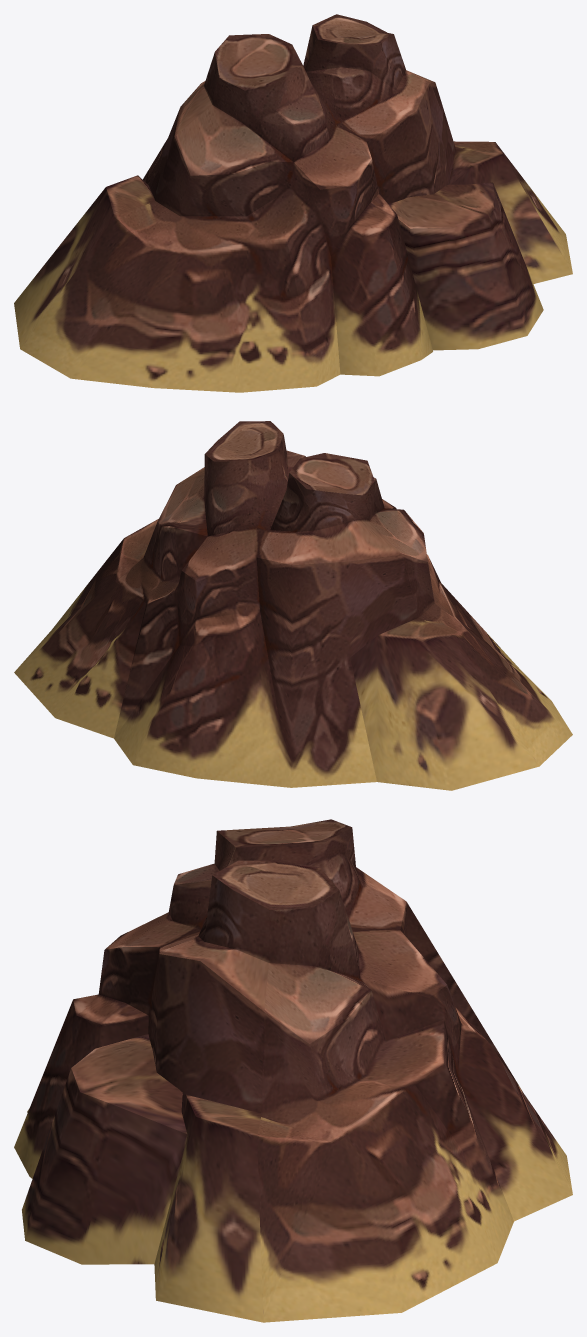
File: SV_MOT_shamo_rock_5.FBX
3 renders of one model, top to bottom at view 1: azimuth 30°, elevation 25°; view 2: azimuth 150°, elevation 25°; view 3: azimuth 270°, elevation 25°, orthographic. The views are drawn at different scales.
Visible parts, largest first — view 1: SV_MOT_shamo_rock_5; view 2: SV_MOT_shamo_rock_5; view 3: SV_MOT_shamo_rock_5.
Boxes of the visible parts, box(x1,y1,x2,y2) form: SV_MOT_shamo_rock_5: box(14, 14, 572, 392); SV_MOT_shamo_rock_5: box(14, 421, 572, 790); SV_MOT_shamo_rock_5: box(14, 819, 572, 1322).
Bounding box in the file's own units: 8.51 × 3.92 × 6.21.
